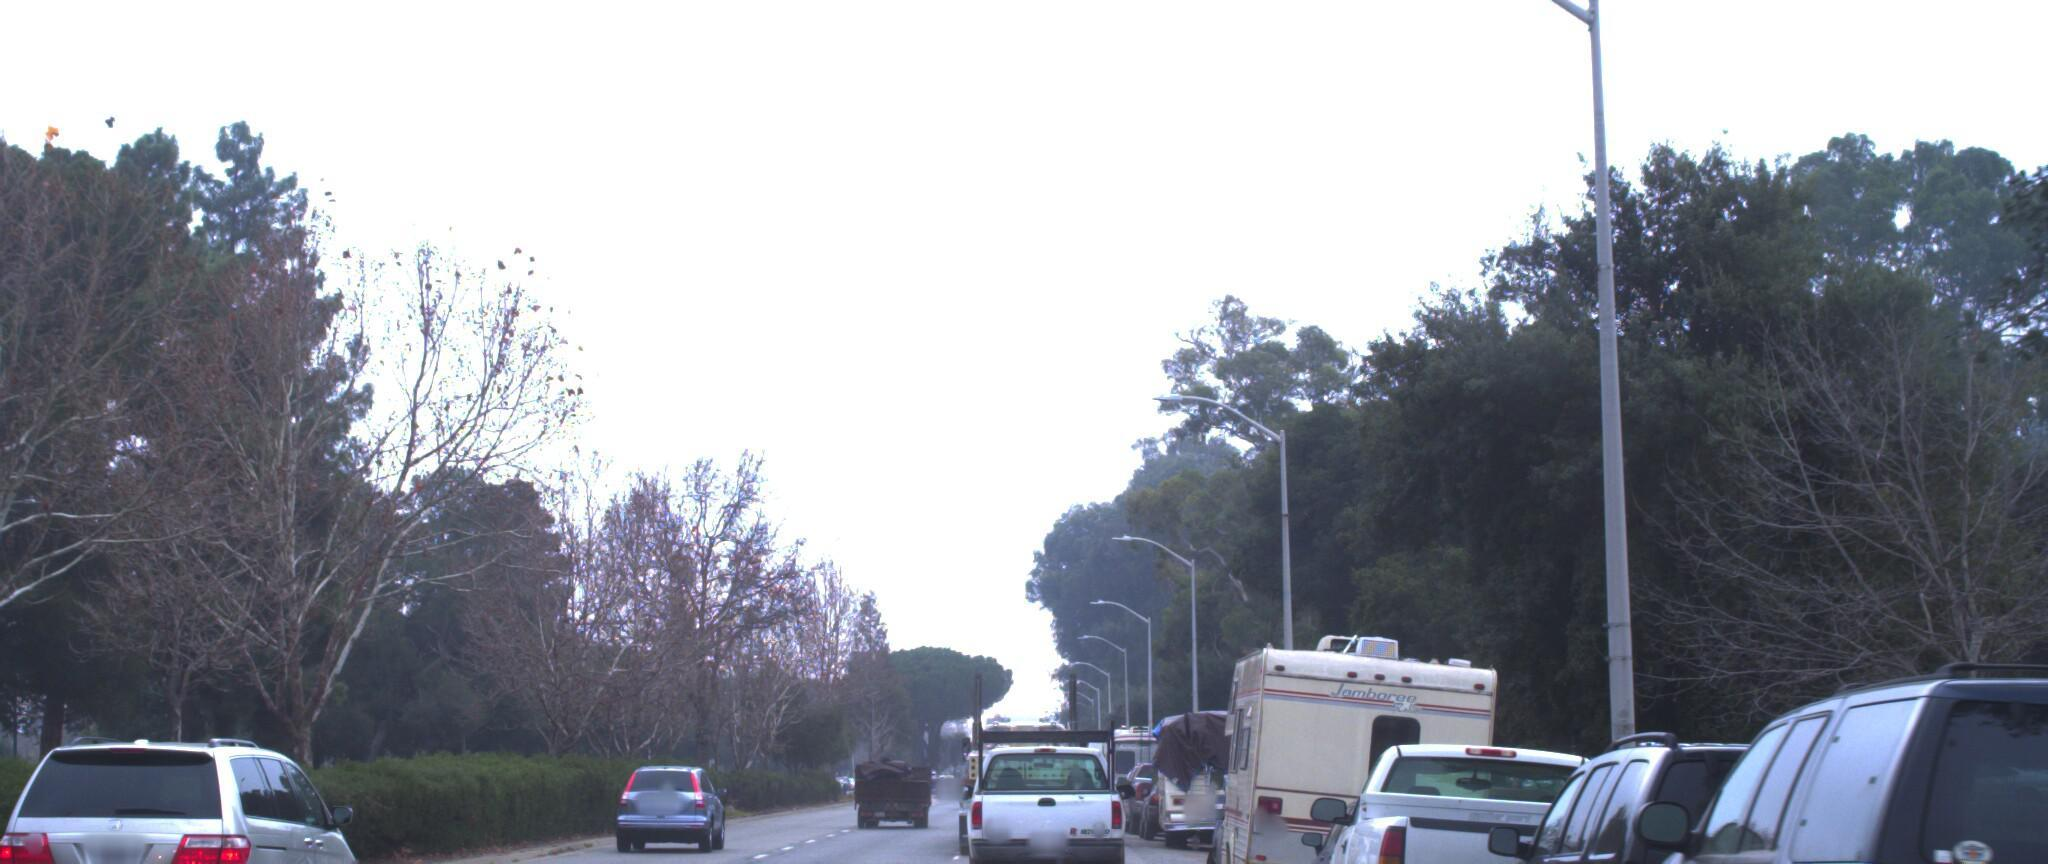car: (1587, 647, 2048, 864), (1432, 714, 1991, 864), (0, 718, 377, 864), (1307, 722, 1688, 864), (963, 713, 1143, 864), (1260, 788, 1545, 864), (615, 771, 734, 860)
other_vehicle: (1199, 609, 1522, 864), (1138, 710, 1270, 837)
truck: (981, 662, 1102, 831)
